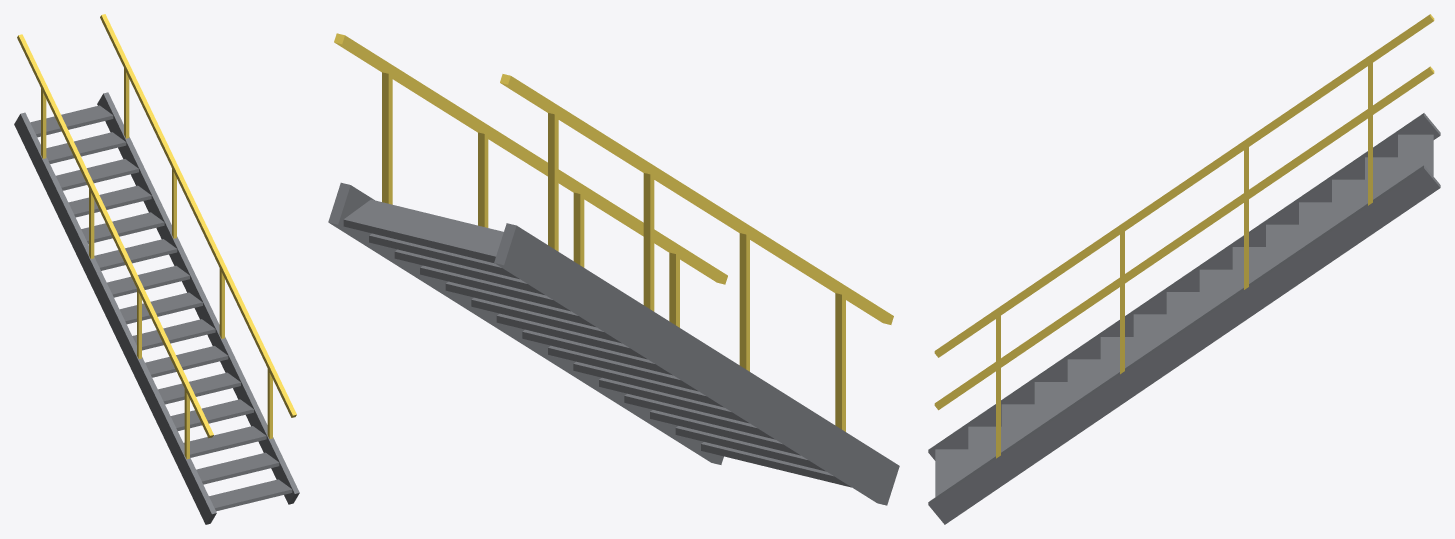
Rendered from catwalk_stairs.glb.
3 views of the same model, side by side, from view 1: azimuth 30°, elevation 25°; view 2: azimuth 150°, elevation 25°; view 3: azimuth 270°, elevation 25° (orthographic). The views are drawn at different scales.
Visible parts, largest first — view 1: body; view 2: body; view 3: body.
Part boxes in pixels (bbox=[...]): body: bbox=[14, 14, 299, 524]; body: bbox=[328, 33, 899, 505]; body: bbox=[928, 14, 1440, 524].
Bounding box in the file's own units: 1.06 × 4.06 × 4.13.
